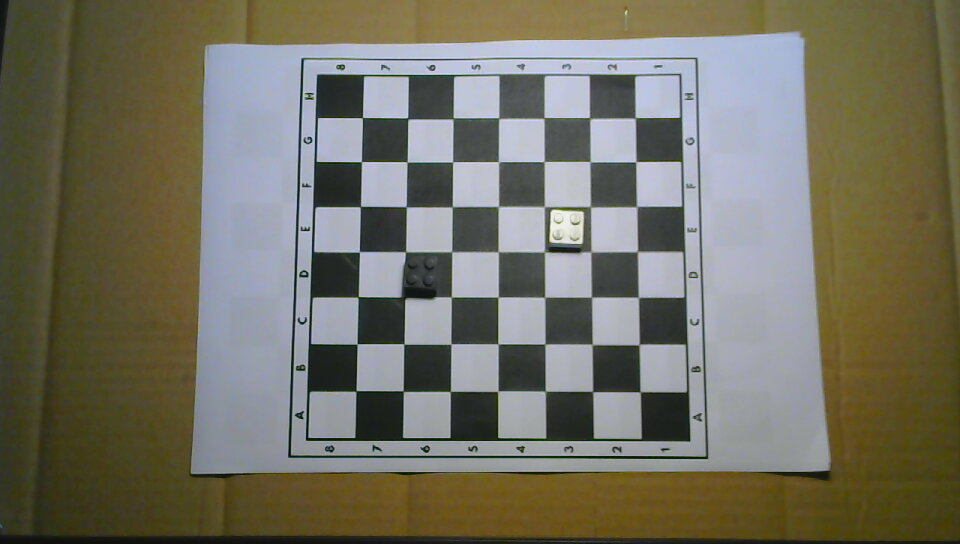bp: (404, 252, 439, 298)
wp: (547, 206, 584, 249)
